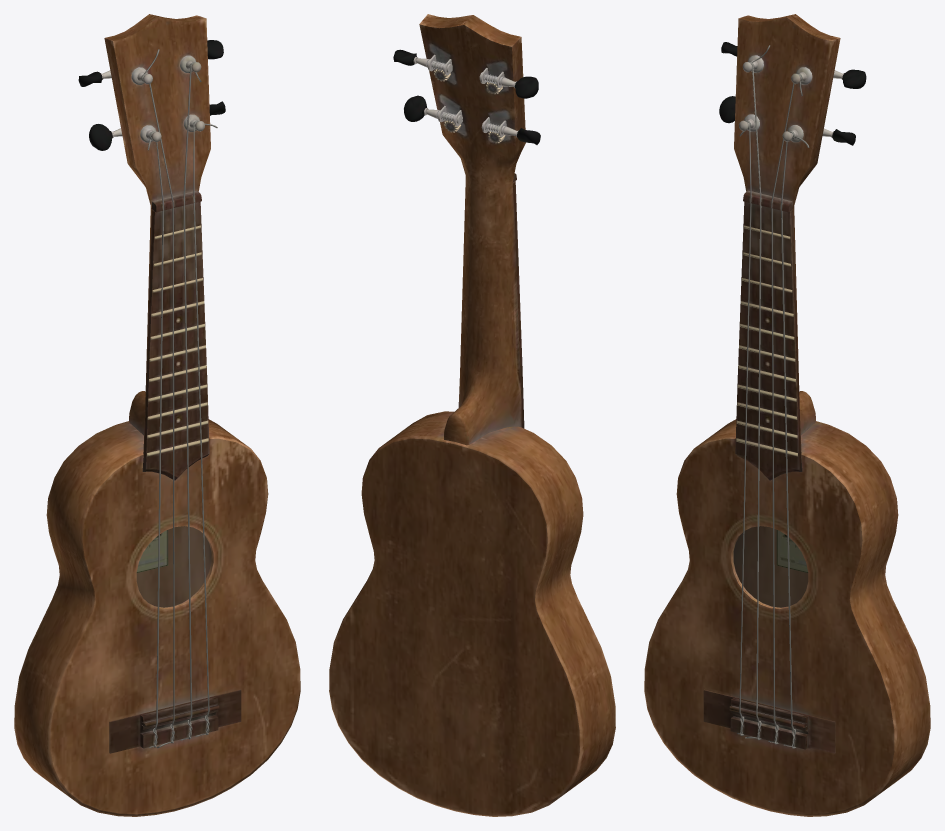
File: Ukulele_01.glb
3 renders of one model, left to right at view 1: azimuth 30°, elevation 25°; view 2: azimuth 150°, elevation 25°; view 3: azimuth 330°, elevation 25°, orthographic.
Parts seen in each view (by area): view 1: Ukulele_01; view 2: Ukulele_01; view 3: Ukulele_01.
Part boxes in pixels (bbox=[...]): Ukulele_01: bbox=[14, 14, 300, 816]; Ukulele_01: bbox=[329, 14, 615, 816]; Ukulele_01: bbox=[644, 14, 930, 816].
Size of the model in its own units: 0.1779 by 0.527 by 0.0508.
1 material, 1 textured.
